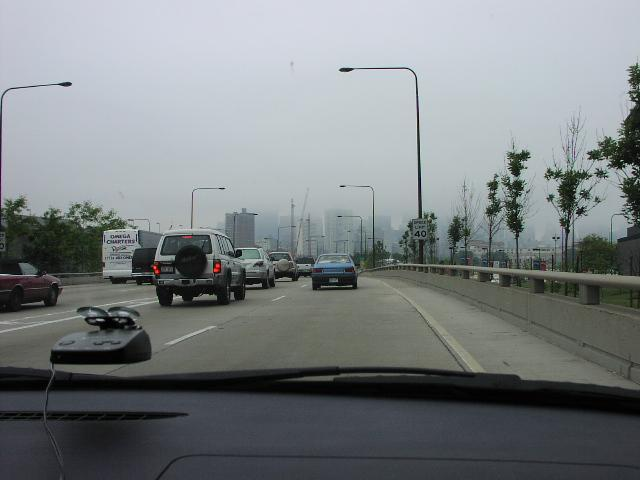car: (153, 228, 248, 307), (102, 228, 168, 286), (1, 260, 64, 312), (226, 246, 277, 290), (310, 251, 359, 291), (130, 246, 172, 286), (265, 250, 300, 282), (292, 255, 318, 279)
